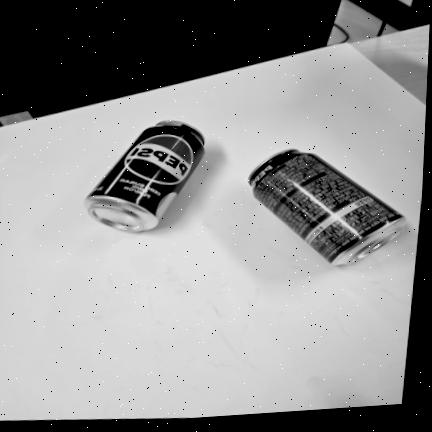can_pepsi: (251, 148, 401, 269)
can_pepsi_zero: (90, 119, 207, 231)
